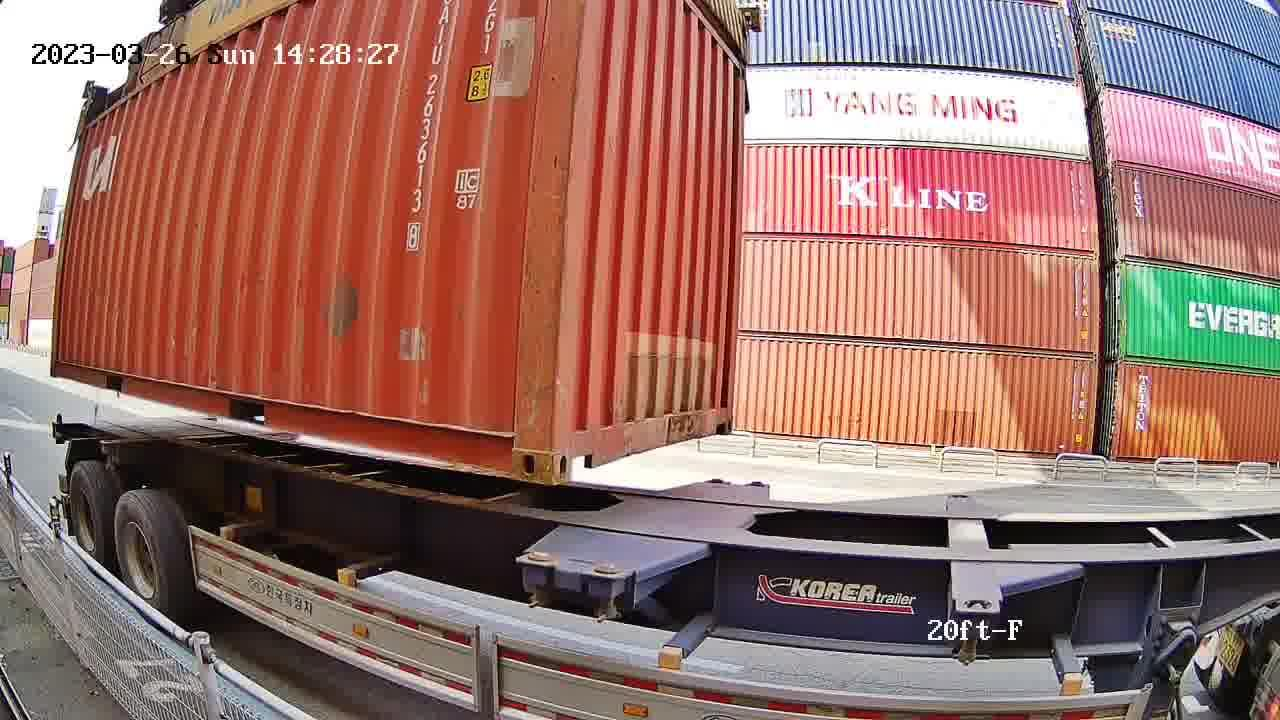Chassis: (526, 478, 728, 563), (588, 484, 767, 575)
Cone: (518, 551, 558, 609), (592, 562, 627, 620)
Hole_L: (549, 403, 601, 484)
Hole_R: (478, 401, 555, 484), (709, 394, 733, 434)
Tire: (118, 494, 170, 614), (71, 469, 108, 565)
